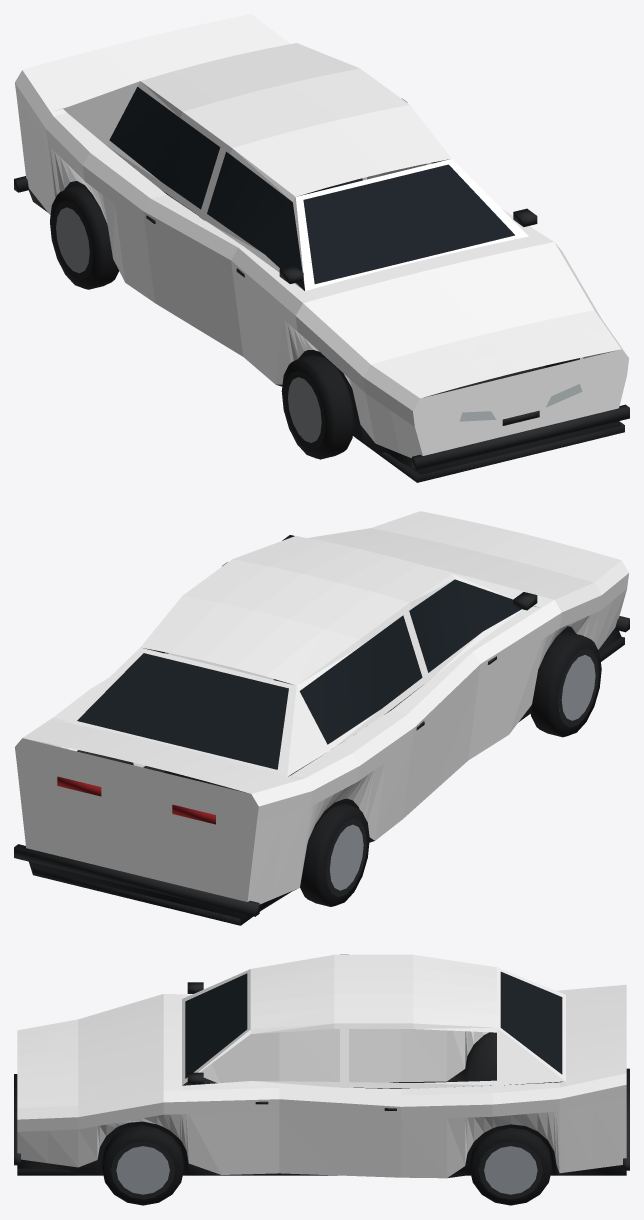
File: morel_afluente.glb
3 views of the same model, one above another, from view 1: azimuth 30°, elevation 25°; view 2: azimuth 150°, elevation 25°; view 3: azimuth 270°, elevation 25° (orthographic). The views are drawn at different scales.
Visible parts, largest first — view 1: Body_Paint, Body_Details, Mount_FrontLeft_Wheel_Details, Mount_RearLeft_Wheel_Details; view 2: Body_Paint, Body_Details, Mount_FrontLeft_Wheel_Details, Mount_RearLeft_Wheel_Details; view 3: Body_Paint, Body_Details, Mount_FrontRight_Wheel_Details, Mount_RearRight_Wheel_Details.
Part boxes in pixels (x1,y1,x2,y2): Body_Paint: [15, 14, 628, 458]; Body_Details: [14, 87, 629, 482]; Mount_FrontLeft_Wheel_Details: [281, 355, 354, 459]; Mount_RearLeft_Wheel_Details: [50, 186, 118, 289]; Body_Paint: [15, 511, 628, 904]; Body_Details: [14, 535, 629, 925]; Mount_FrontLeft_Wheel_Details: [530, 632, 601, 737]; Mount_RearLeft_Wheel_Details: [300, 803, 369, 906]; Body_Paint: [17, 954, 626, 1178]; Body_Details: [14, 972, 629, 1178]; Mount_FrontRight_Wheel_Details: [102, 1125, 184, 1205]; Mount_RearRight_Wheel_Details: [469, 1128, 551, 1205].
Size of the model in its own units: 2.03 by 1.48 by 4.93.
Materials: 2 (1 with a texture image).
